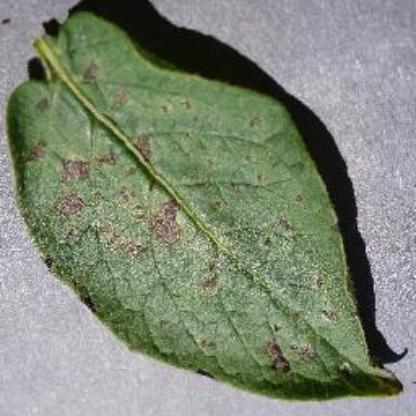Early-Blight: (7, 10, 408, 402)
